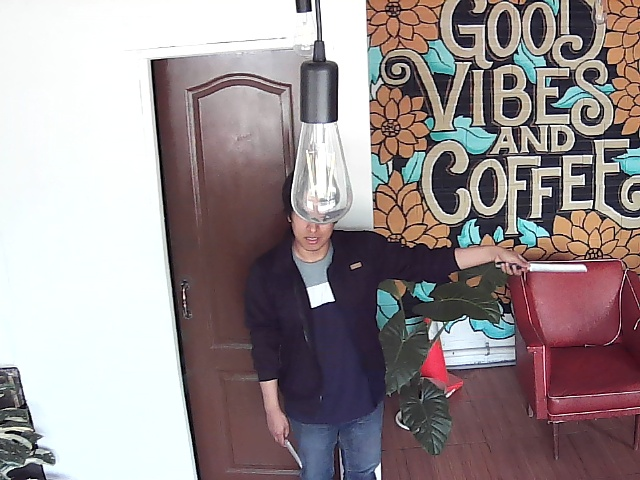cuchillo: (491, 251, 597, 280)
